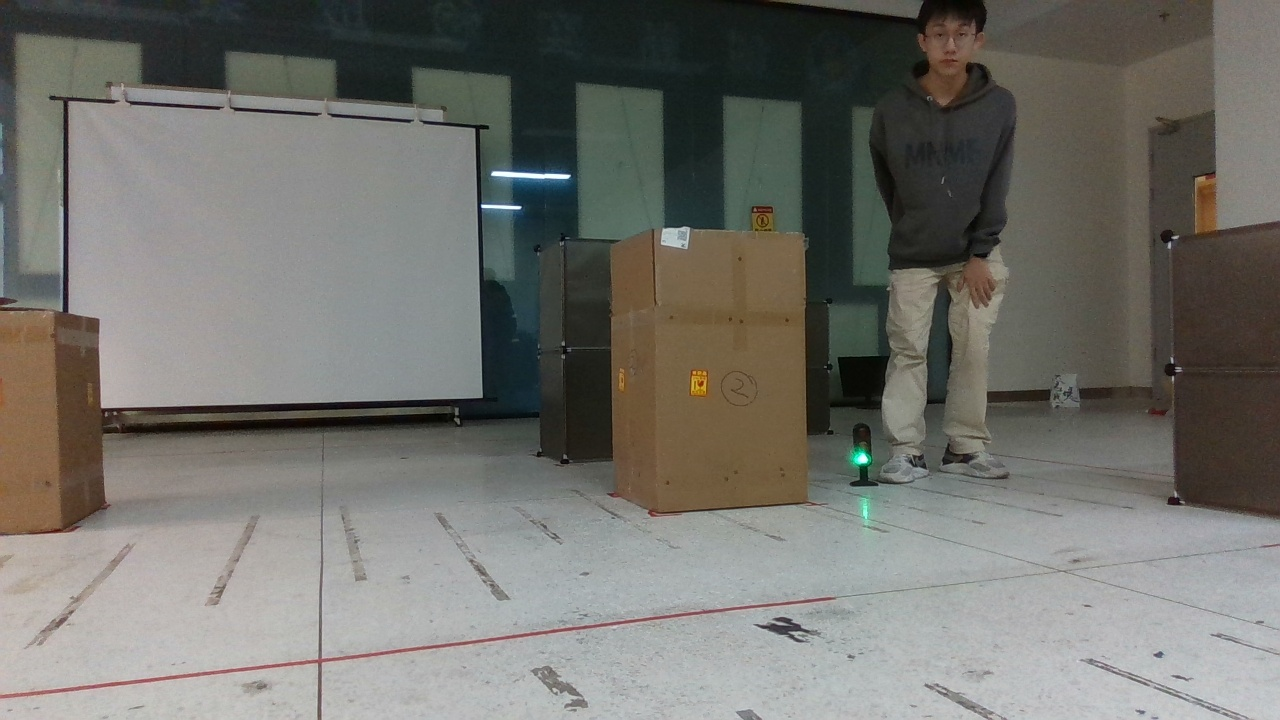green_light: (840, 411, 888, 495)
